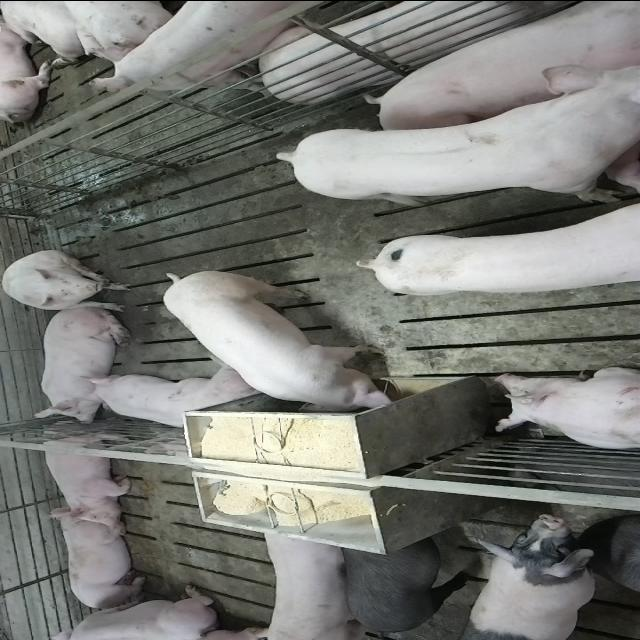Feeding: (162, 264, 396, 410)
Lateral_lying: (370, 0, 640, 125), (258, 0, 592, 101)
Sitting: (3, 250, 135, 312)
Standing: (271, 67, 636, 209), (358, 205, 640, 298), (93, 0, 332, 90), (466, 512, 602, 638), (336, 529, 472, 637), (257, 522, 367, 638), (610, 512, 640, 610)
Sternal_lying: (487, 366, 640, 450), (80, 369, 262, 432), (32, 312, 130, 421), (32, 584, 220, 637), (52, 511, 150, 612), (36, 426, 134, 524)
